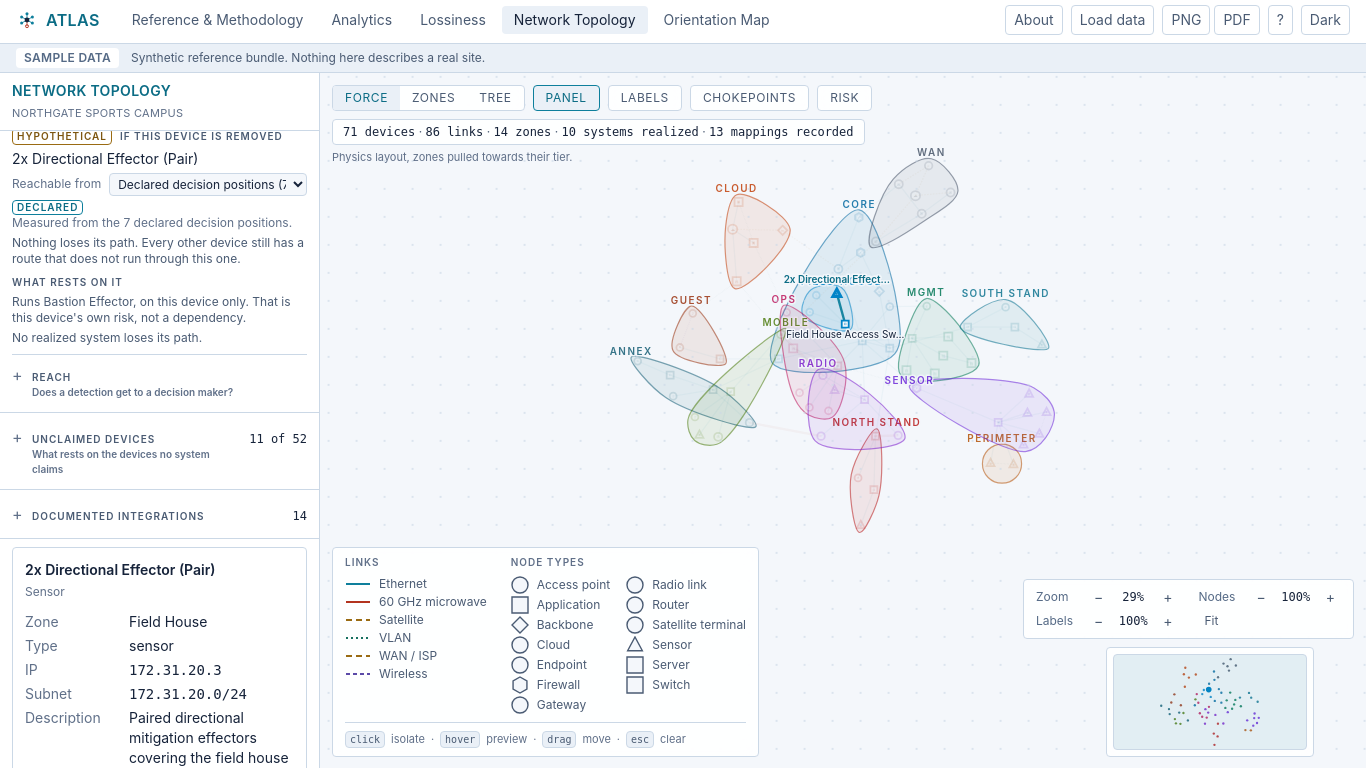
Scenario: the shell opens the palette › lands on the device even after the canvas has been cleared once
The width and height of the screenshot is (1366, 768).
(page scrolled)
Expected: the heading "2x Directional Effector (Pair)" is shown, [25,561,216,578]
Press Escape
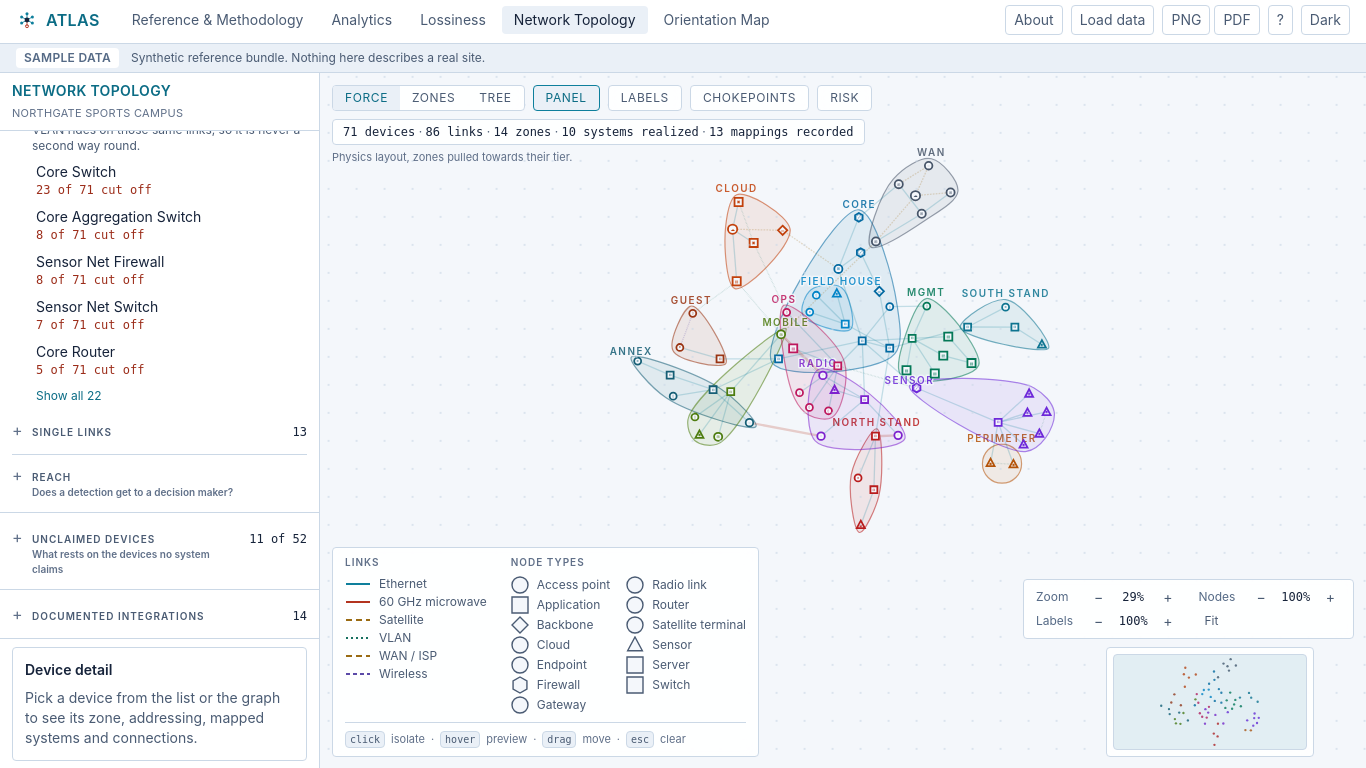
Now the text "Pick a device" is shown, box [25,688,280,746]
Type keys "{Meta>}k{/Meta}"
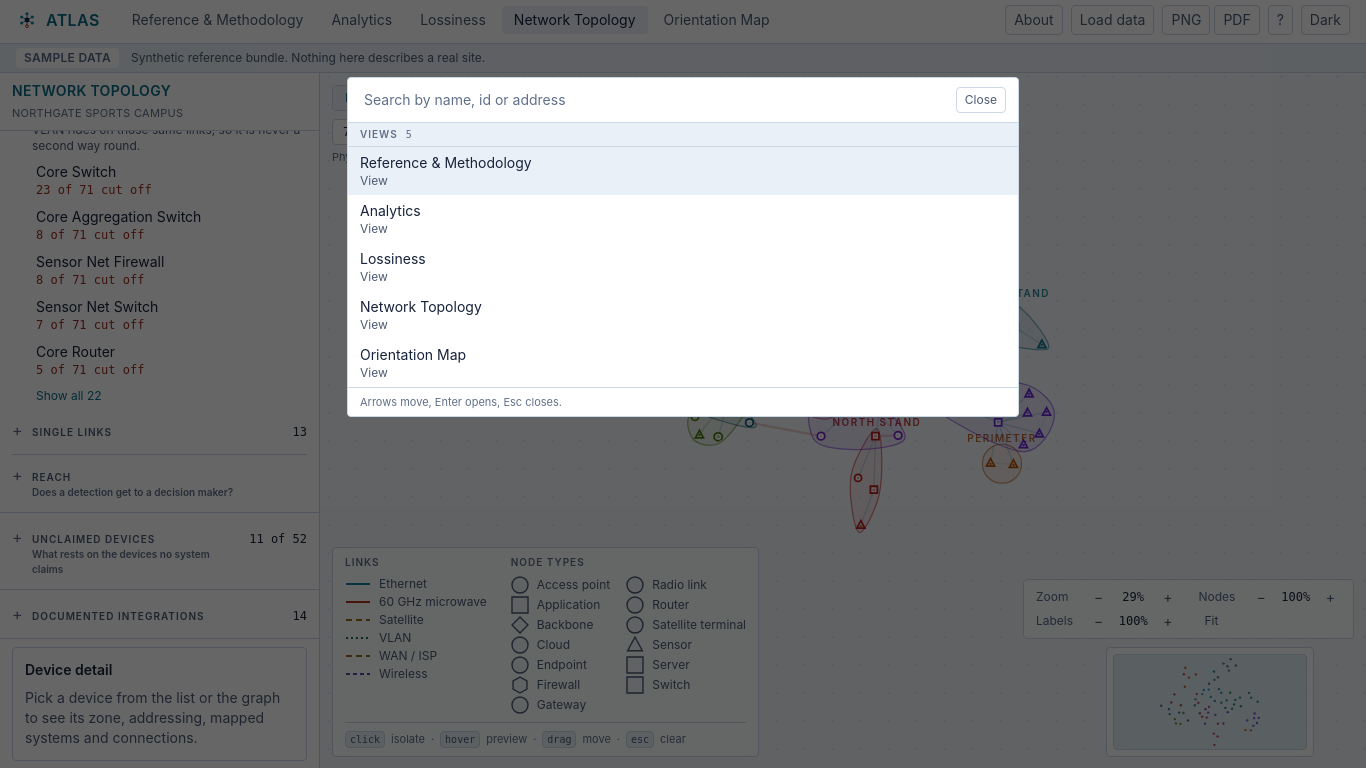
Now the dialog named "search" is shown, box [347,77,1019,417]
Type "core_router" into the dropdown.
click(654, 100); type("core_router")  # box [360,86,948,114]
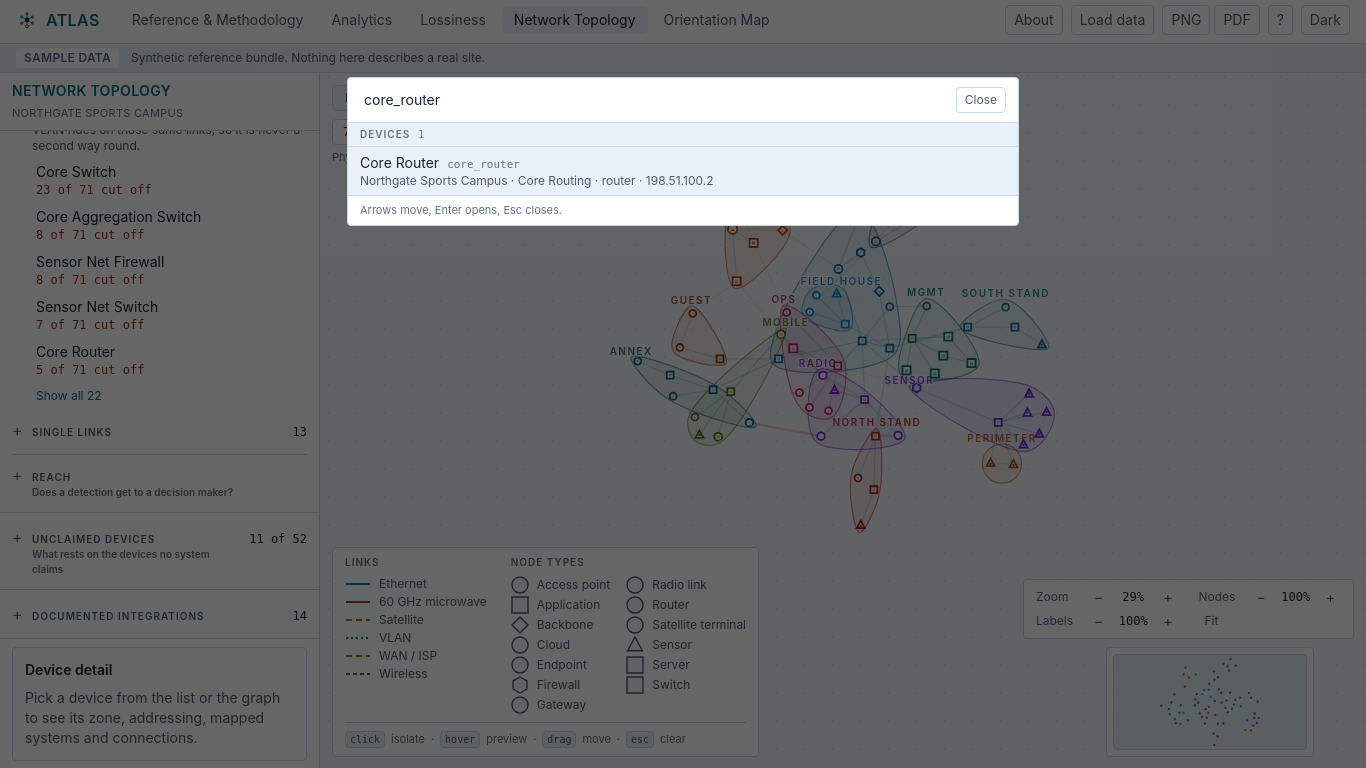
Now the option is shown, box [348,147,1018,195]
Press Enter
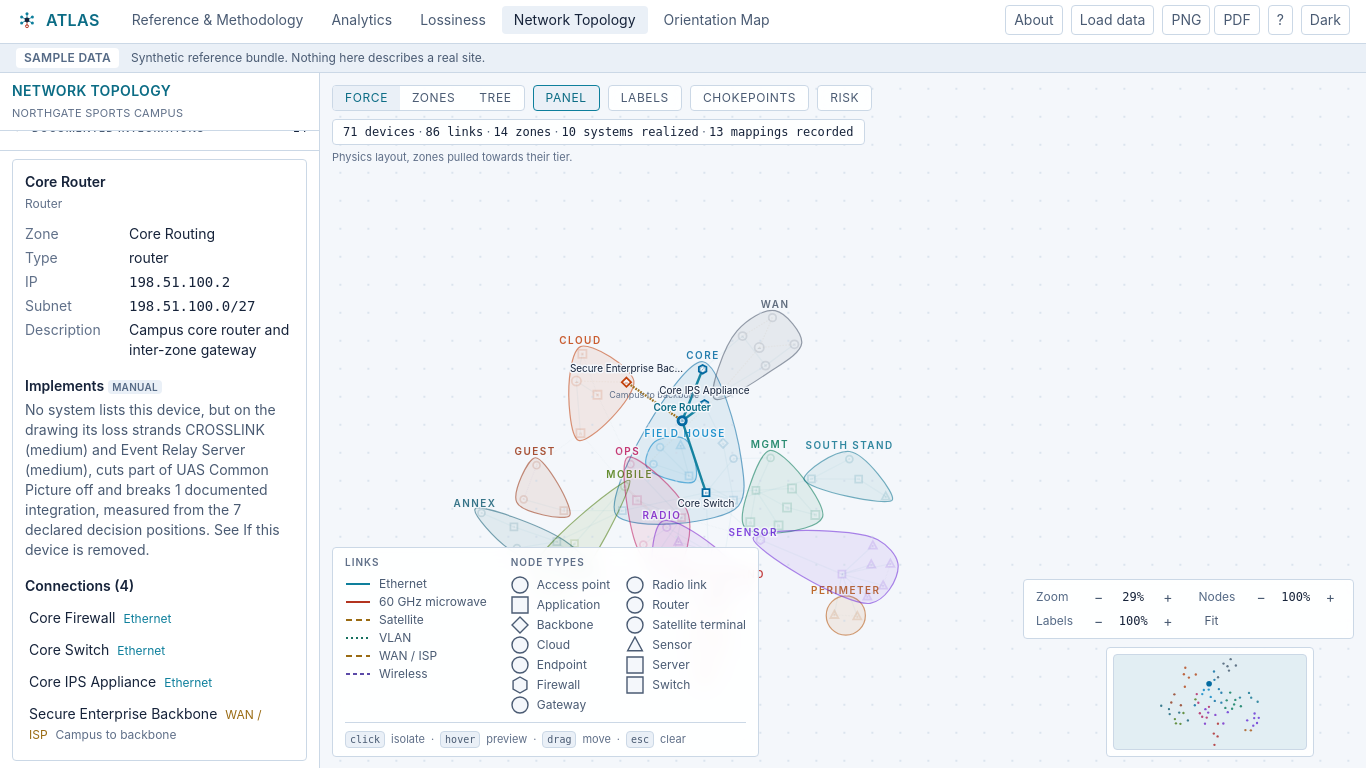
Now the text "Pick a device" is gone
Now the heading "Core Router" is shown, box [25,173,106,190]
